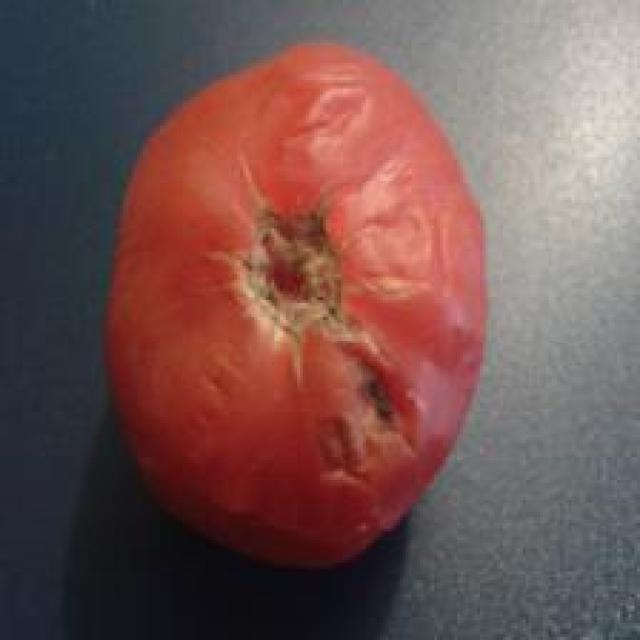overripe: (106, 37, 497, 568)
